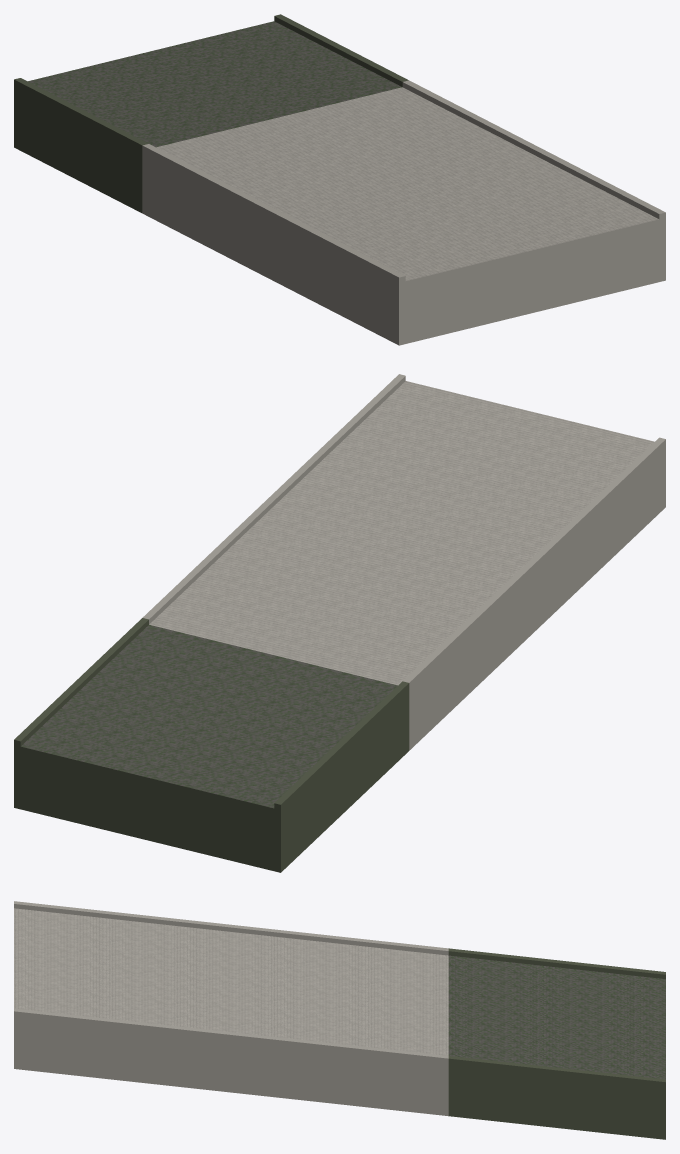
Rendered from tf_boat_ramp_8m_v2.glb.
The picture shows the model from 3 angles, top to bottom: view 1: azimuth 30°, elevation 25°; view 2: azimuth 150°, elevation 25°; view 3: azimuth 270°, elevation 25°; orthographic projection. The views are drawn at different scales.
Parts seen in each view (by area): view 1: tf_boat_ramp_8m_v2; view 2: tf_boat_ramp_8m_v2; view 3: tf_boat_ramp_8m_v2.
Boxes of the visible parts, x1,y1,x2,y2 form: tf_boat_ramp_8m_v2: (14, 14, 665, 345); tf_boat_ramp_8m_v2: (14, 374, 665, 872); tf_boat_ramp_8m_v2: (14, 901, 665, 1139).
Size of what is drawn, in the model's own units: 8 by 4.35 by 20.
Materials: 4 (2 with a texture image).
